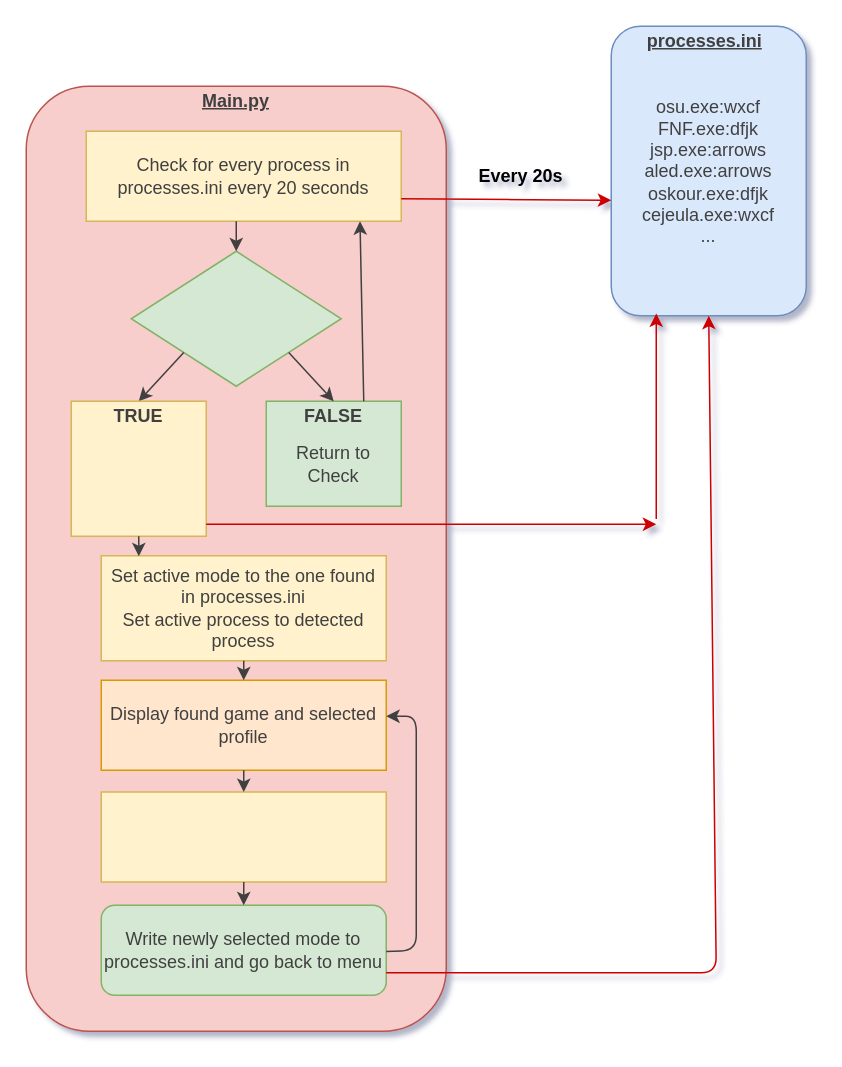
Image size: 842x1067. Some labels were removed from this diagram. The box of each missing label's shape, as (x1, y1, x2, y2) in pixels:
Check found process's mode in processes.ini: (70, 400, 206, 536)
Display menu to change mode, go back to process check or exit completely: (100, 790, 386, 882)
Is any process running ?: (130, 250, 341, 386)
